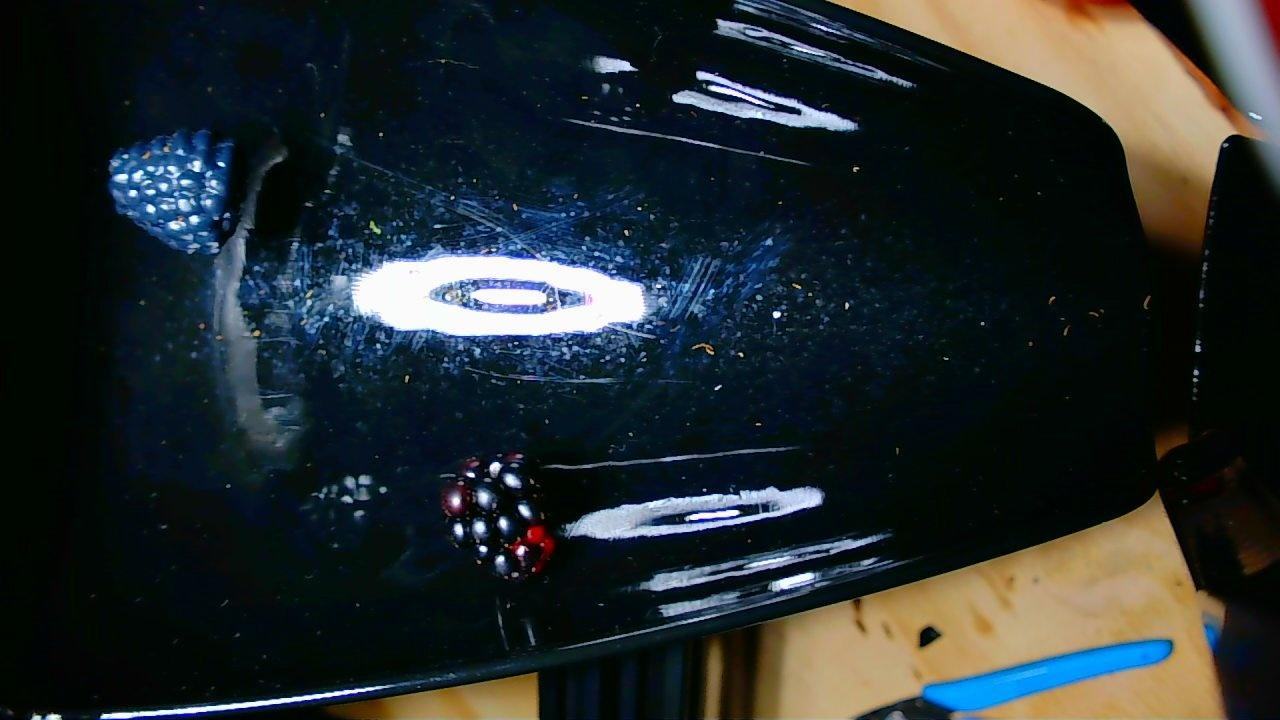berry: (108, 130, 232, 254), (441, 453, 554, 579)
